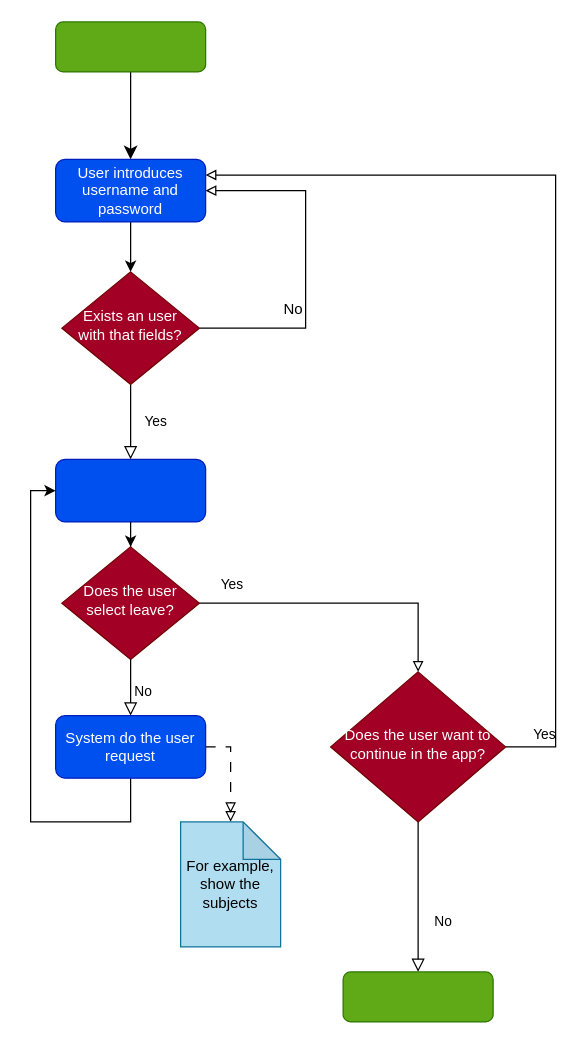
This 588x1044 diagram has some shape labels left out. Here are the shapes that lost their labels. From the top down, the centre of each, then its label:
the point at 130,46: Start
the point at 130,490: Display a menu and user select an option
the point at 417,996: End
